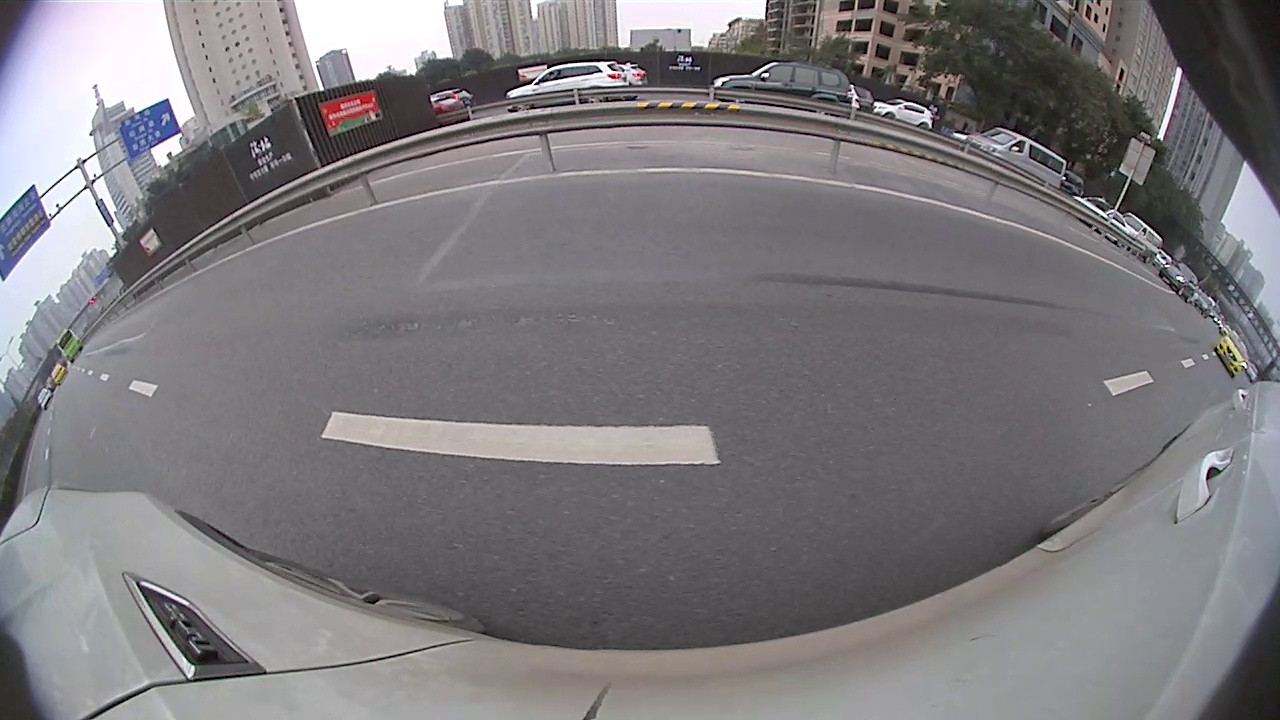car: (958, 126, 1068, 189), (709, 61, 853, 109), (504, 60, 634, 100), (869, 95, 933, 133), (1117, 211, 1163, 254), (1213, 331, 1251, 379), (1158, 261, 1197, 303)
